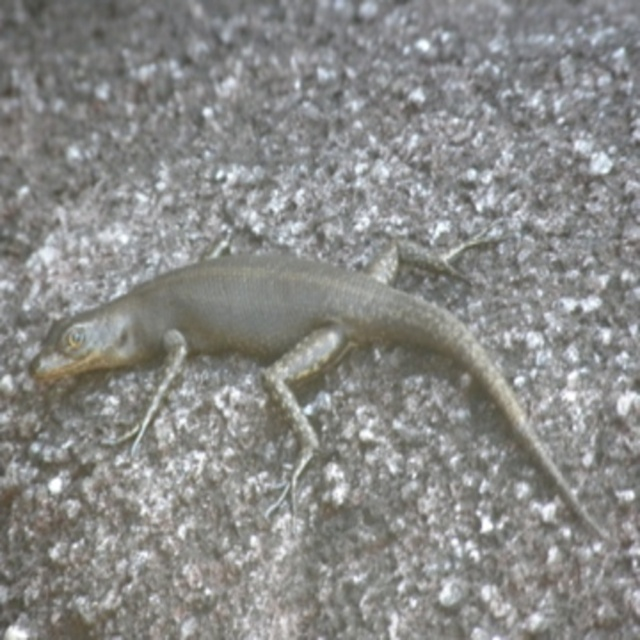Lizard: (27, 216, 612, 540)
